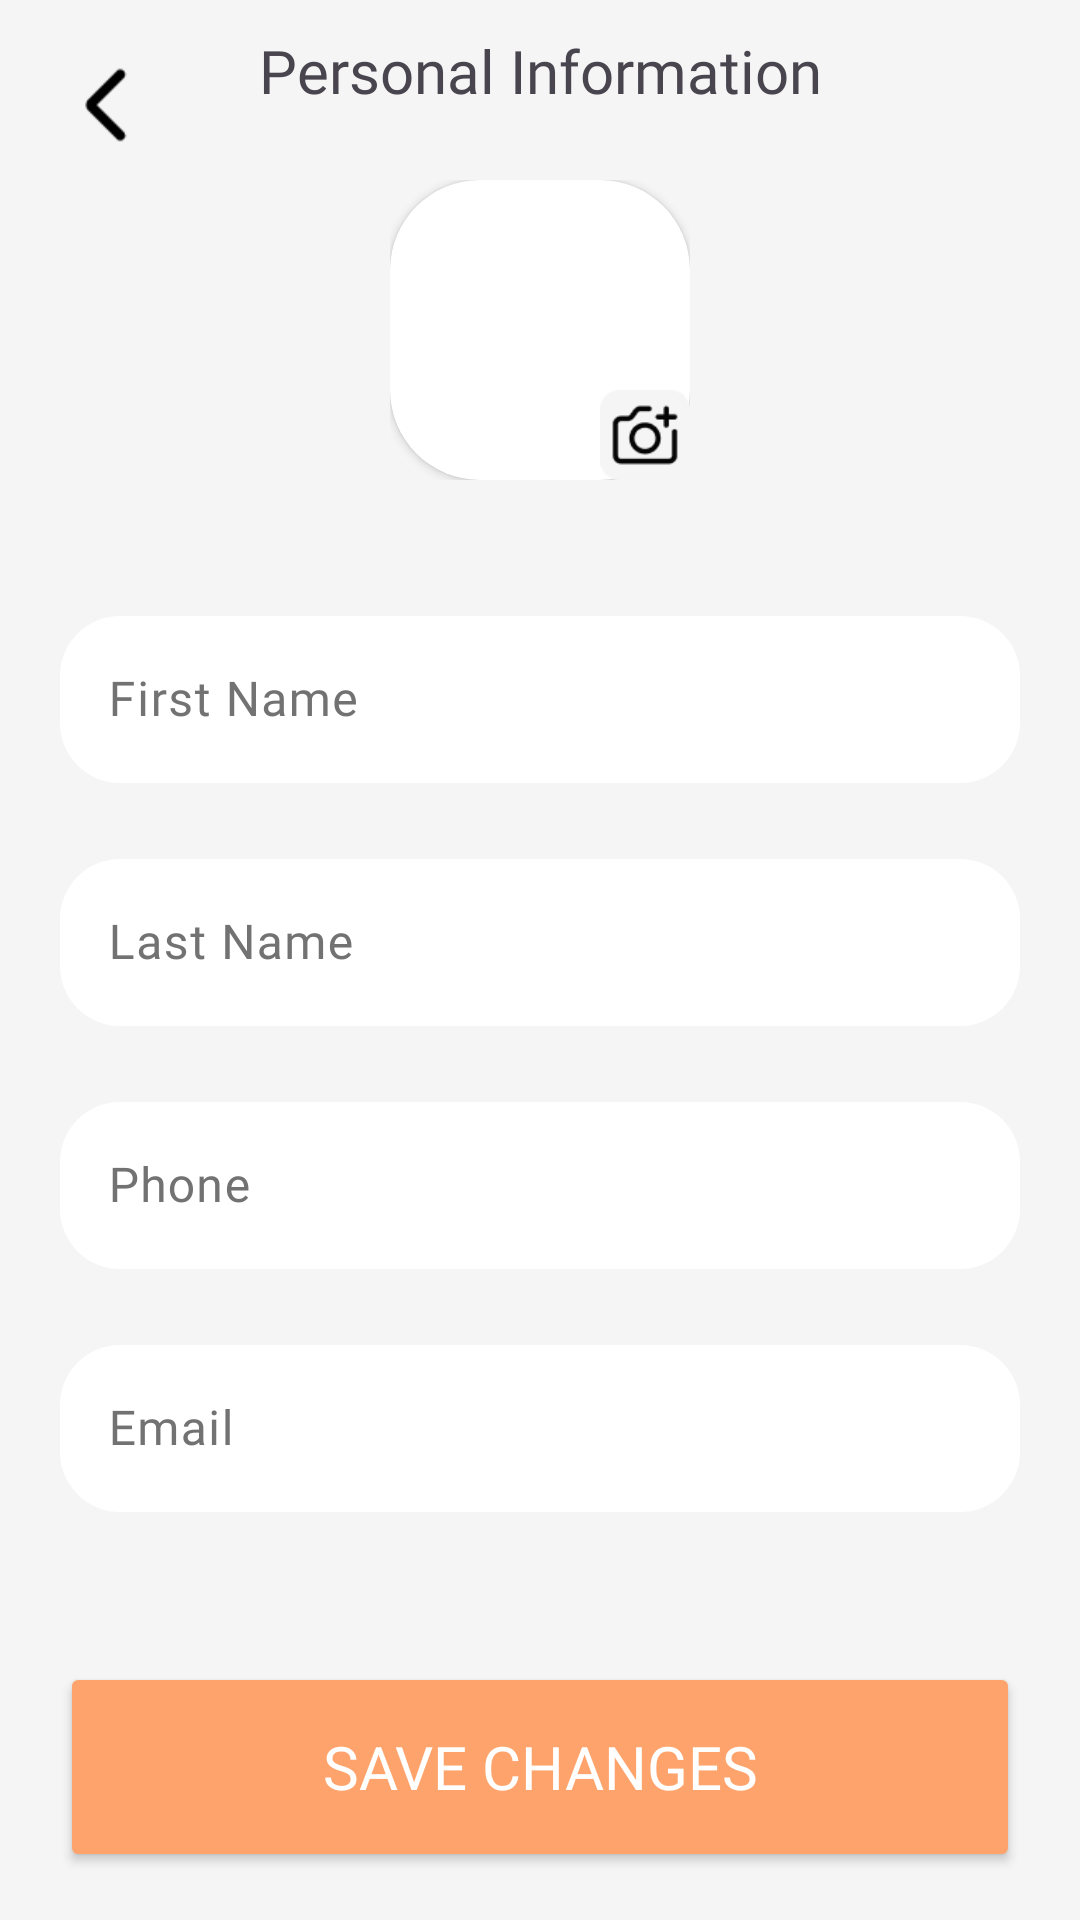

Named icons in this screenshot (1080×1920) and their centers, (x=x, y=y):
addimage infor: (x=650, y=440)
